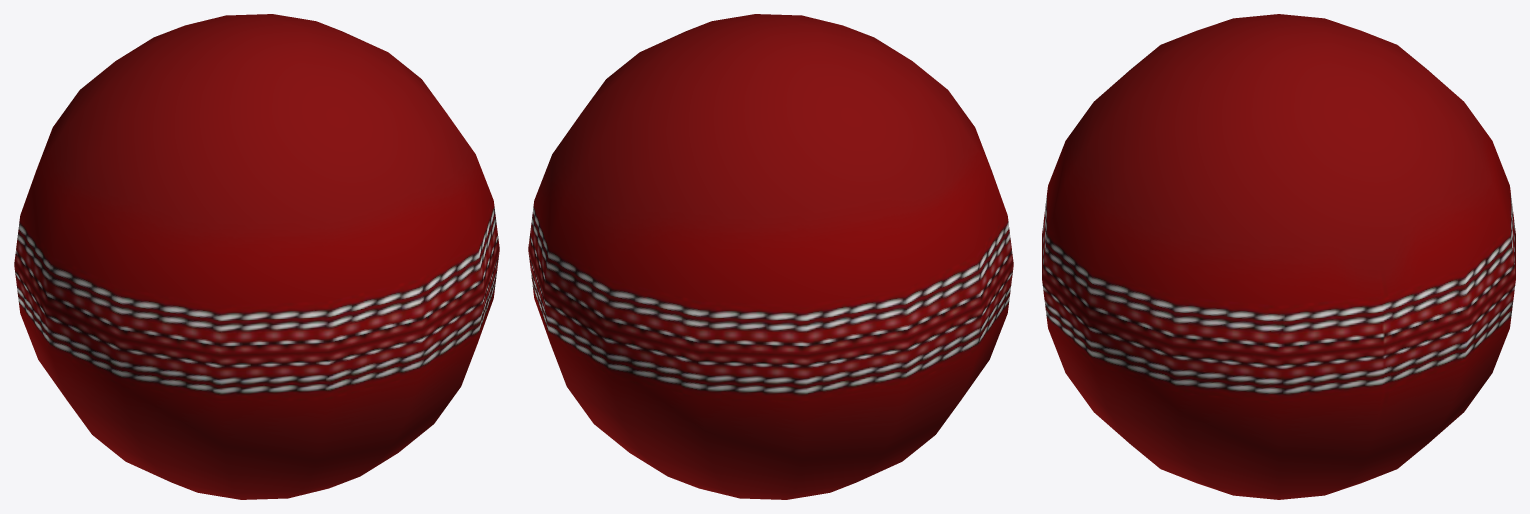
Rendered from Cricket_ball_fin.fbx.
The picture shows the model from 3 angles, left to right: view 1: azimuth 30°, elevation 25°; view 2: azimuth 150°, elevation 25°; view 3: azimuth 270°, elevation 25°; orthographic projection.
Parts seen in each view (by area): view 1: Cricket_ball; view 2: Cricket_ball; view 3: Cricket_ball.
Boxes of the visible parts, x1,y1,x2,y2 form: Cricket_ball: (14, 14, 499, 499); Cricket_ball: (528, 14, 1013, 499); Cricket_ball: (1042, 14, 1515, 499).
Size of the model in its own units: 5.14 by 5.14 by 5.01.
Materials: 1 (1 with a texture image).
